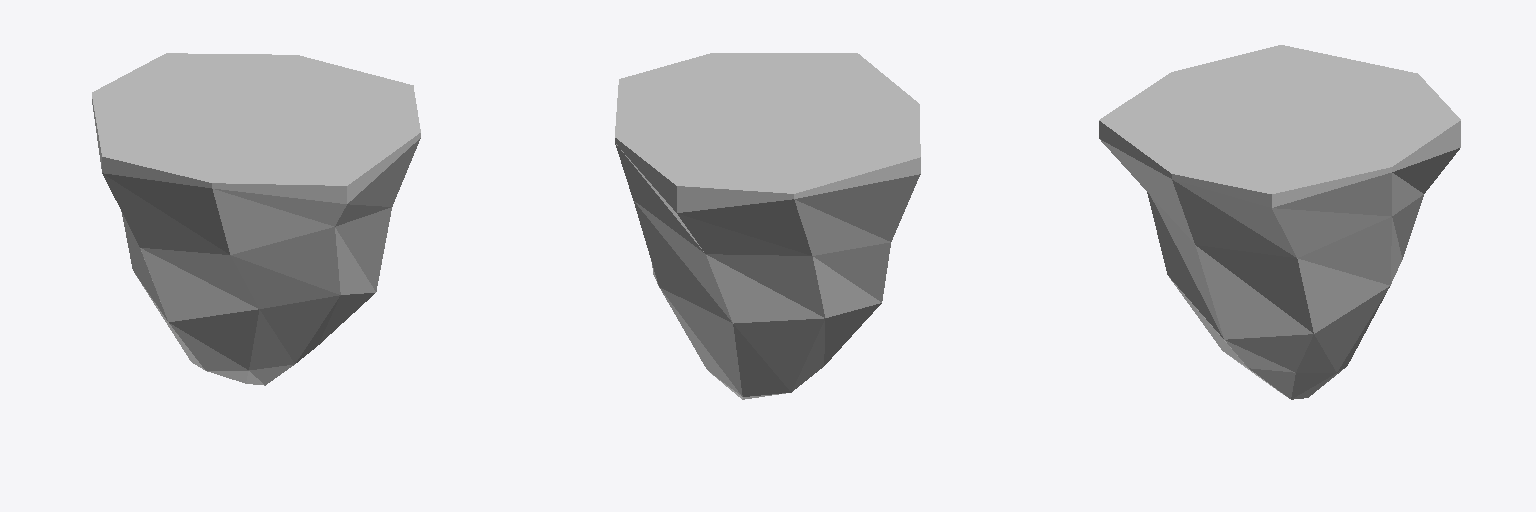
File: island.obj
The picture shows the model from 3 angles: view 1: azimuth 30°, elevation 25°; view 2: azimuth 150°, elevation 25°; view 3: azimuth 270°, elevation 25°; orthographic projection.
Parts seen in each view (by area): view 1: Island01_Cylinder; view 2: Island01_Cylinder; view 3: Island01_Cylinder.
Boxes of the visible parts, <box> form: Island01_Cylinder: <box>92,53,420,385</box>; Island01_Cylinder: <box>615,53,920,399</box>; Island01_Cylinder: <box>1099,45,1460,399</box>.
Size of the model in its own units: 0.8871 by 0.7545 by 0.9085.